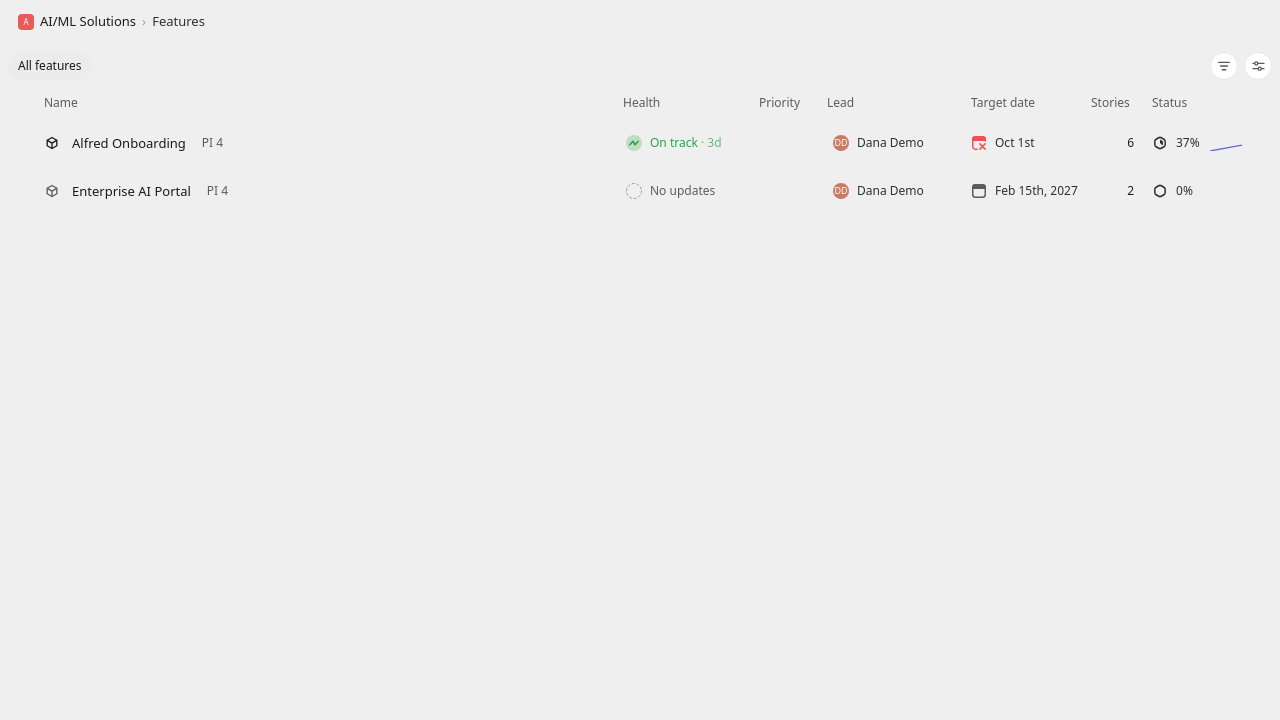
Test: the Title filter matches names containing the text
Step 1. Click the button named "Add filter" → {"x": 1224, "y": 66}, box [1210,52,1238,80]
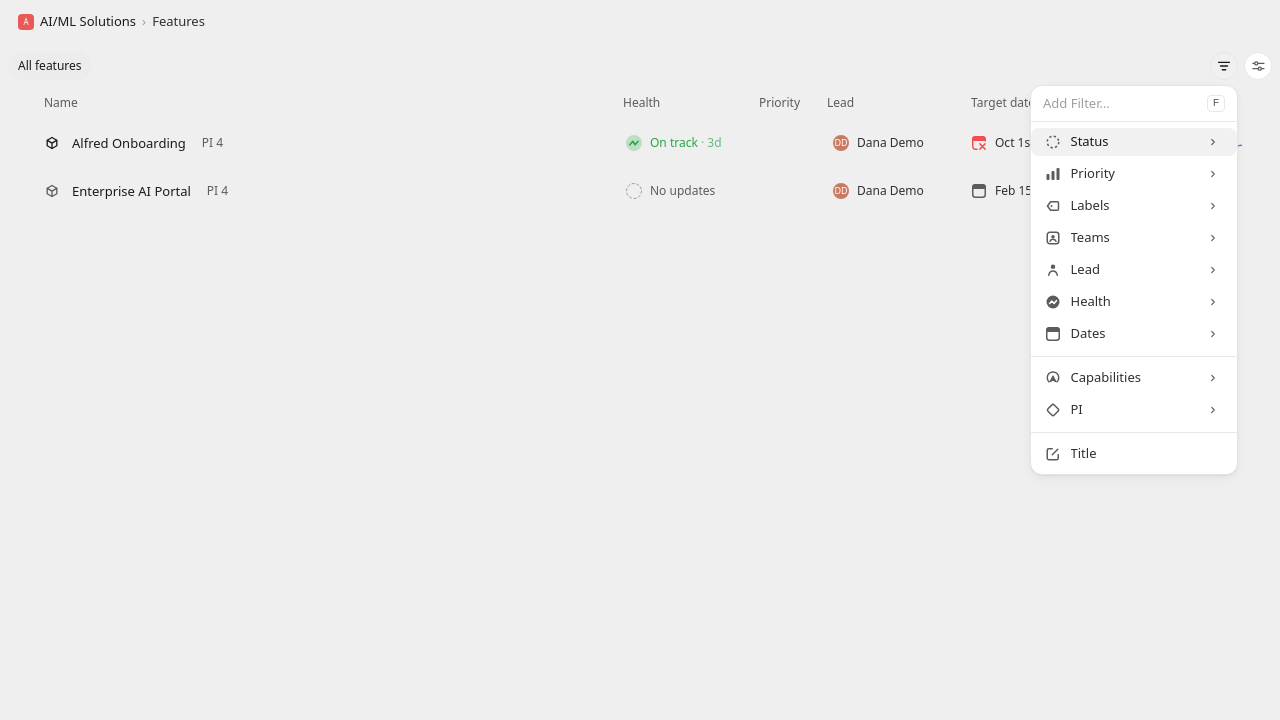
Step 2. Click the menu item "Title" → {"x": 1070, "y": 453}, box [1044,444,1096,462]
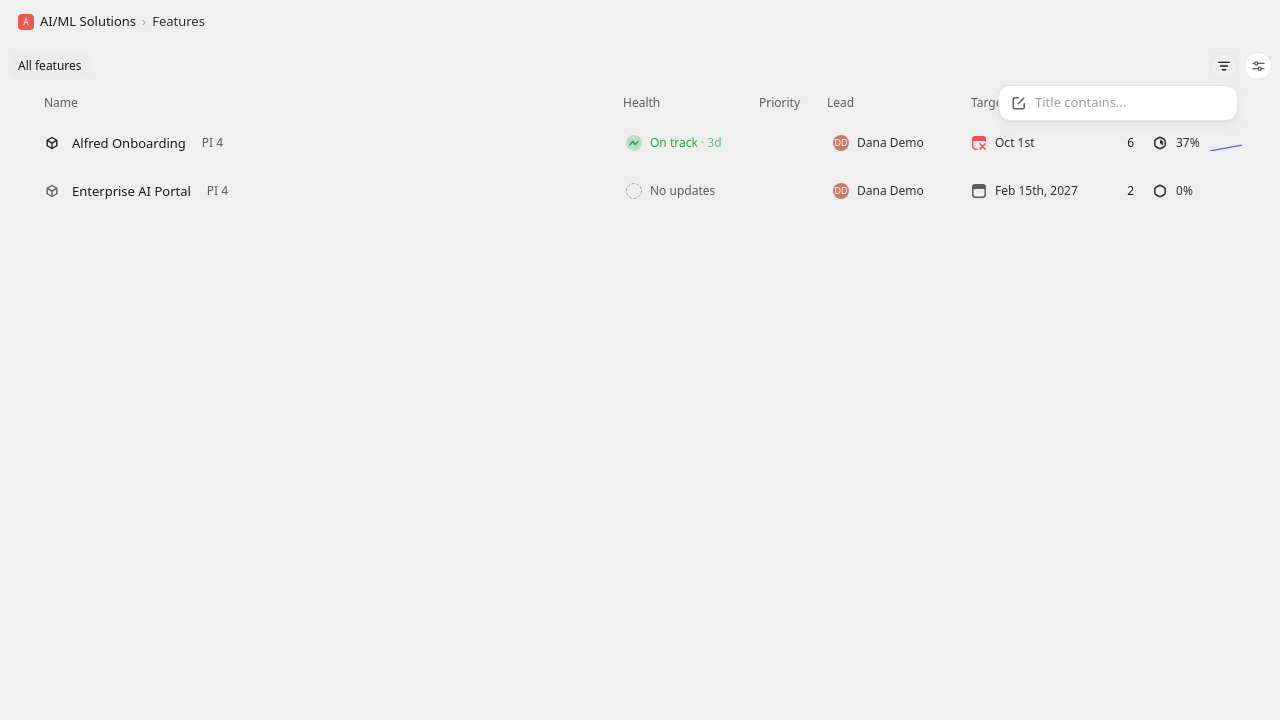
Step 3. Type "portal" into the field labelled "Title contains" → {"x": 1130, "y": 103}, box [1035,93,1225,113]
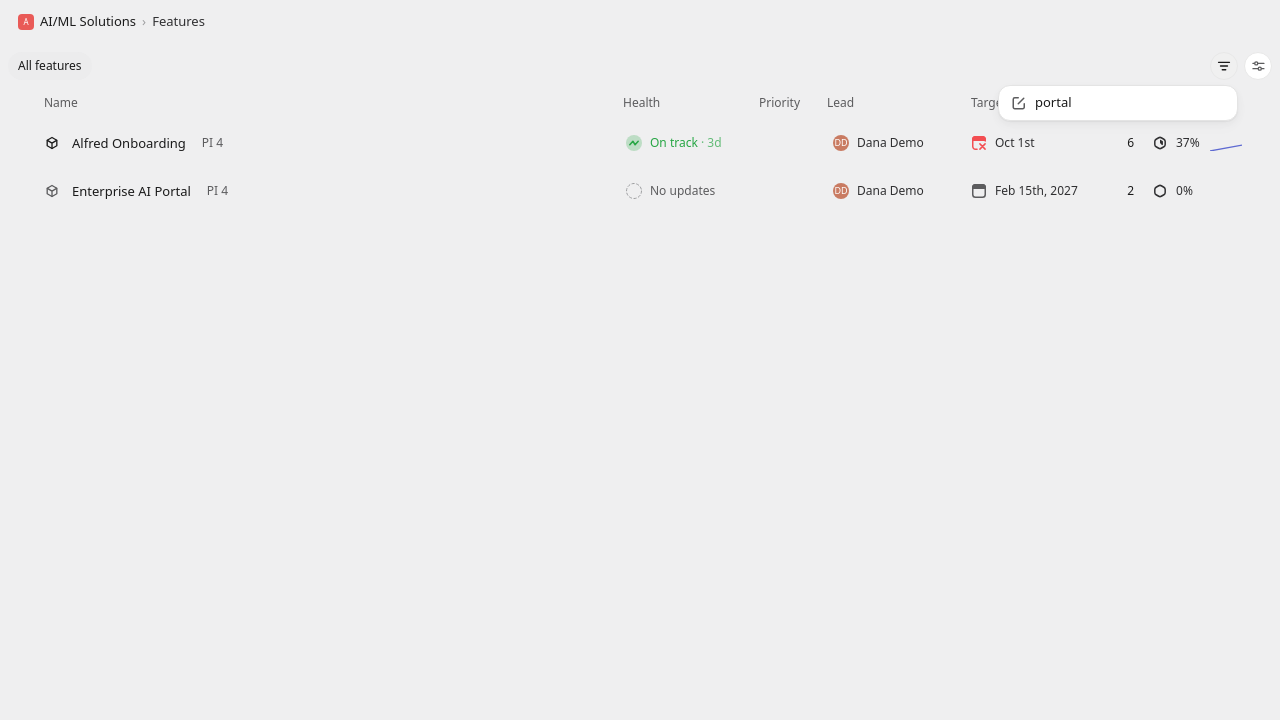
Step 4. Press Enter in the field named "Title contains", box [1035,93,1225,113]
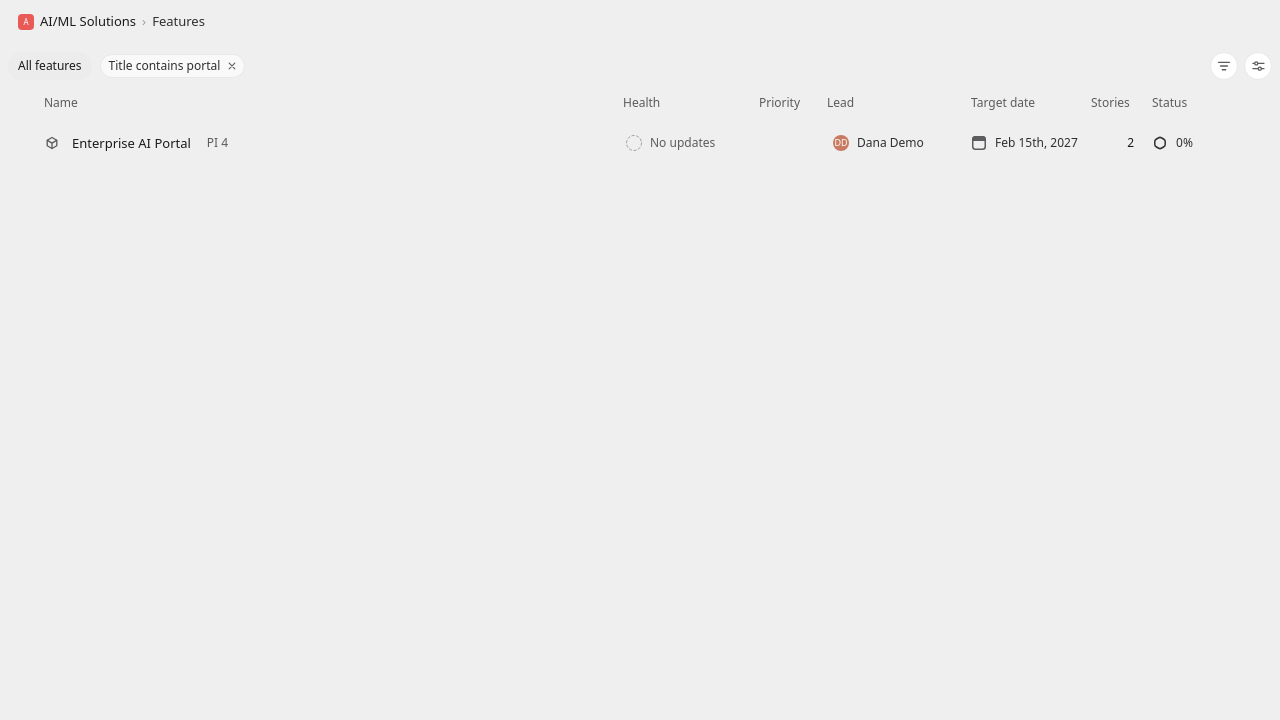
Expected: the link "Enterprise" is shown, [45,131,1193,155]
Expected: the link "Alfred" is gone
Expected: the text "Title contains portal" is shown, [100,54,245,78]
